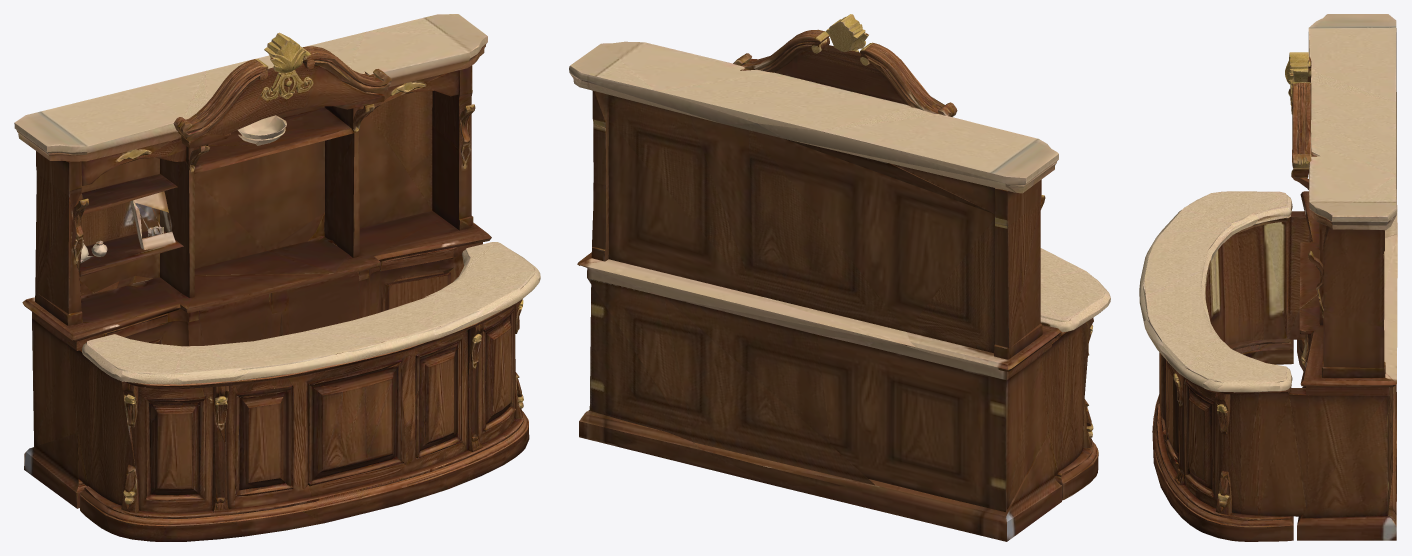
File: counter.glb
The picture shows the model from 3 angles, left to right: view 1: azimuth 30°, elevation 25°; view 2: azimuth 150°, elevation 25°; view 3: azimuth 270°, elevation 25°; orthographic projection. The views are drawn at different scales.
Bounding box in the file's own units: 1.9 × 1.72 × 1.02.
Materials: 1 (1 with a texture image).
